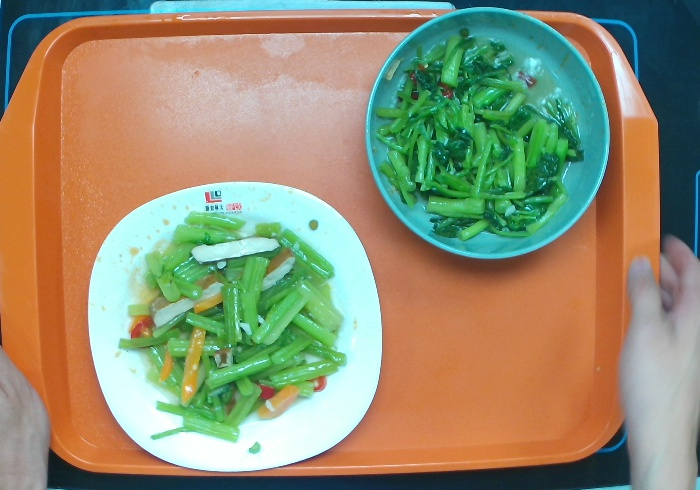ZNLD-Qing_Hua_Yuan_Wan: (360, 1, 625, 266)
ZNLD-Yuan_Jiao_Pan: (75, 156, 400, 490)
